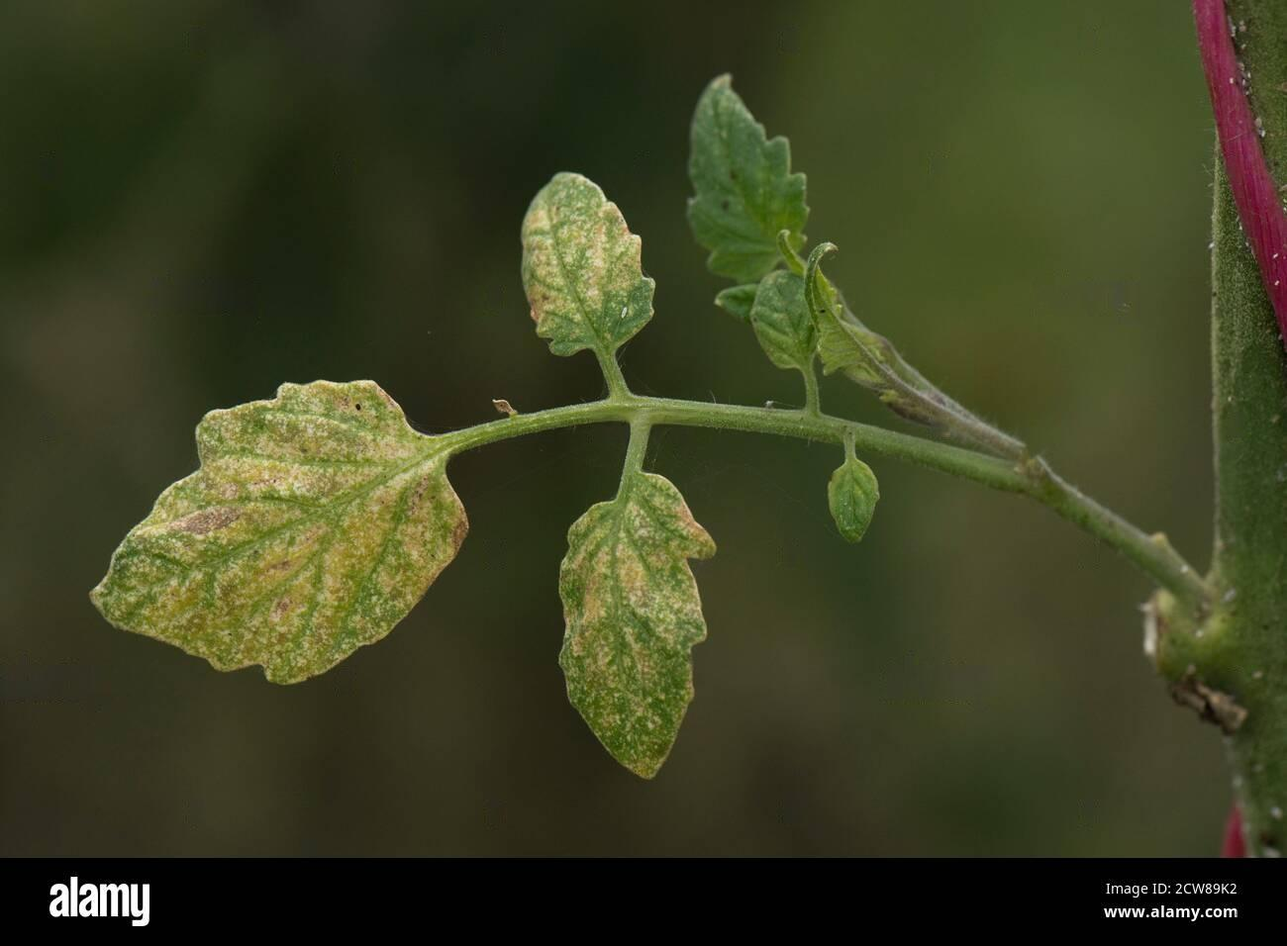Spider Mites: (79, 376, 470, 695), (549, 468, 718, 784), (520, 168, 658, 364)
